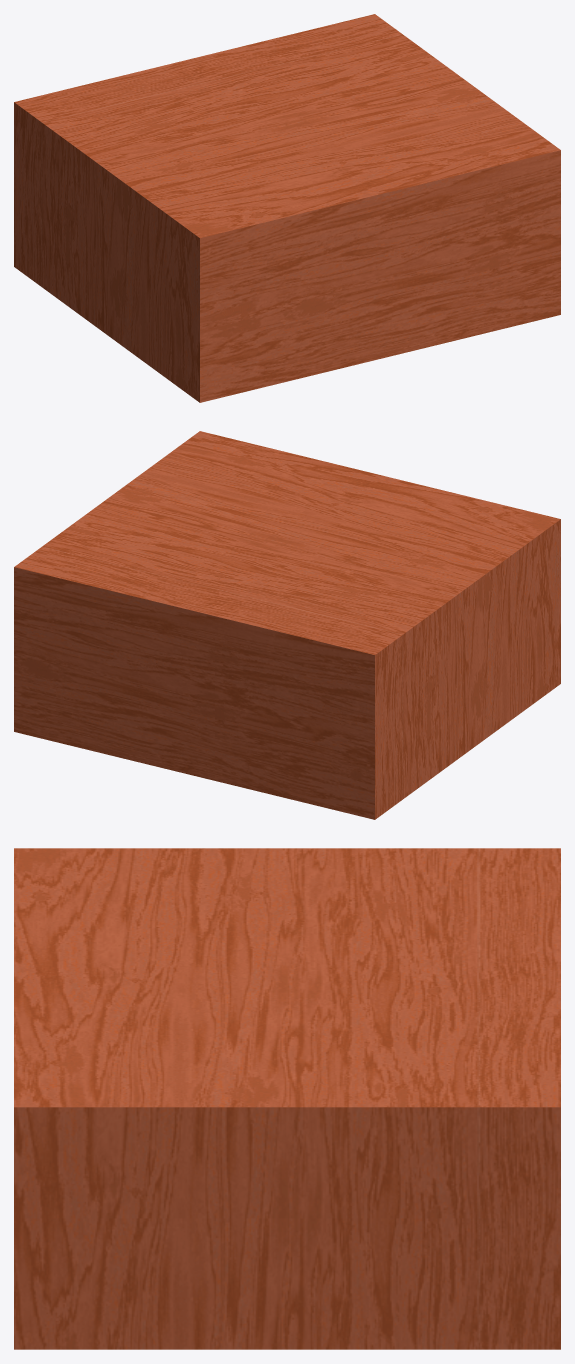
File: MeshTvStand_212_0.obj
3 views of the same model, one above another, from view 1: azimuth 30°, elevation 25°; view 2: azimuth 150°, elevation 25°; view 3: azimuth 270°, elevation 25° (orthographic). The views are drawn at different scales.
Parts seen in each view (by area): view 1: TvStand_212; view 2: TvStand_212; view 3: TvStand_212.
Boxes of the visible parts, x1=… form: TvStand_212: x1=14, y1=14, x2=560, y2=402; TvStand_212: x1=14, y1=431, x2=560, y2=819; TvStand_212: x1=14, y1=848, x2=560, y2=1349.
Bounding box in the file's own units: 0.89 × 0.388 × 0.794.
